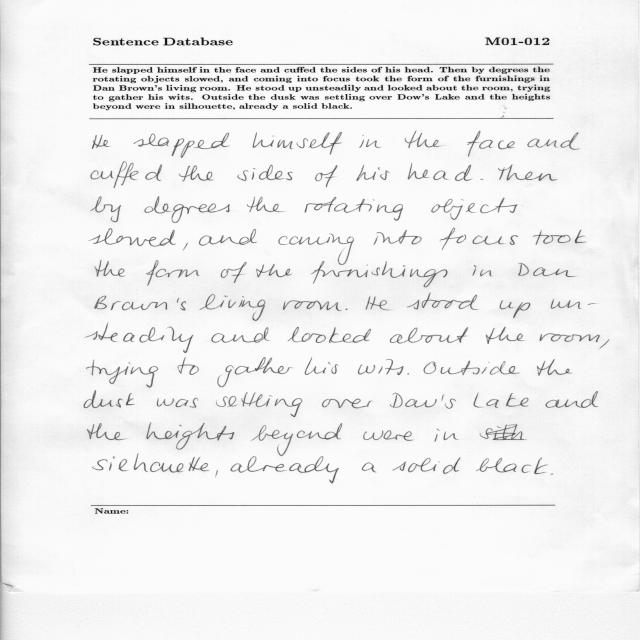word: (311, 261, 448, 287), (86, 324, 193, 353), (251, 423, 343, 456), (231, 457, 339, 484), (147, 422, 235, 450), (133, 133, 229, 158), (278, 234, 354, 265), (305, 197, 403, 221), (144, 196, 230, 223), (218, 358, 293, 388), (216, 392, 302, 417), (93, 454, 209, 472), (253, 132, 342, 155), (87, 360, 158, 388), (432, 198, 518, 220), (91, 162, 162, 188), (200, 294, 266, 321), (440, 228, 518, 250), (89, 228, 176, 247), (146, 260, 199, 286), (95, 296, 186, 311), (424, 361, 521, 375), (288, 327, 371, 343), (390, 327, 468, 344), (467, 131, 515, 157), (363, 429, 458, 442), (407, 293, 478, 310), (476, 458, 547, 475), (392, 457, 461, 474), (408, 163, 472, 181), (390, 393, 456, 409), (498, 164, 557, 181), (199, 229, 257, 246), (527, 132, 580, 150), (238, 164, 294, 181), (211, 327, 270, 343), (546, 391, 599, 408), (84, 391, 135, 408), (474, 393, 529, 408), (518, 263, 576, 277), (533, 230, 586, 245), (91, 197, 121, 223), (480, 424, 526, 440), (374, 230, 422, 245), (358, 359, 403, 375), (88, 423, 127, 440), (283, 300, 342, 311), (486, 327, 524, 344), (405, 131, 442, 148), (537, 359, 572, 376), (305, 357, 338, 375), (356, 164, 390, 181), (220, 262, 247, 283), (247, 197, 284, 212), (179, 166, 213, 182), (500, 300, 530, 318), (540, 333, 600, 342), (95, 260, 125, 277), (322, 399, 372, 409), (316, 166, 338, 188), (256, 264, 292, 277), (551, 299, 596, 309), (157, 398, 199, 408), (178, 357, 199, 375), (366, 296, 391, 310), (359, 135, 381, 148), (92, 134, 110, 149), (473, 265, 493, 276), (362, 463, 376, 473), (600, 339, 610, 349), (183, 243, 188, 251), (216, 470, 218, 476), (408, 373, 410, 375), (551, 473, 553, 475), (480, 179, 483, 180), (345, 309, 348, 310)
